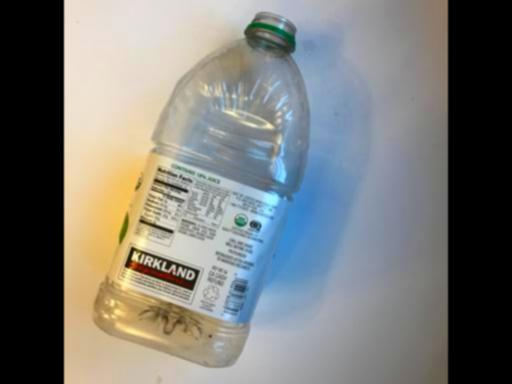PET: (92, 10, 312, 367)
juice: (92, 10, 312, 367)
plastic: (92, 10, 312, 367)
